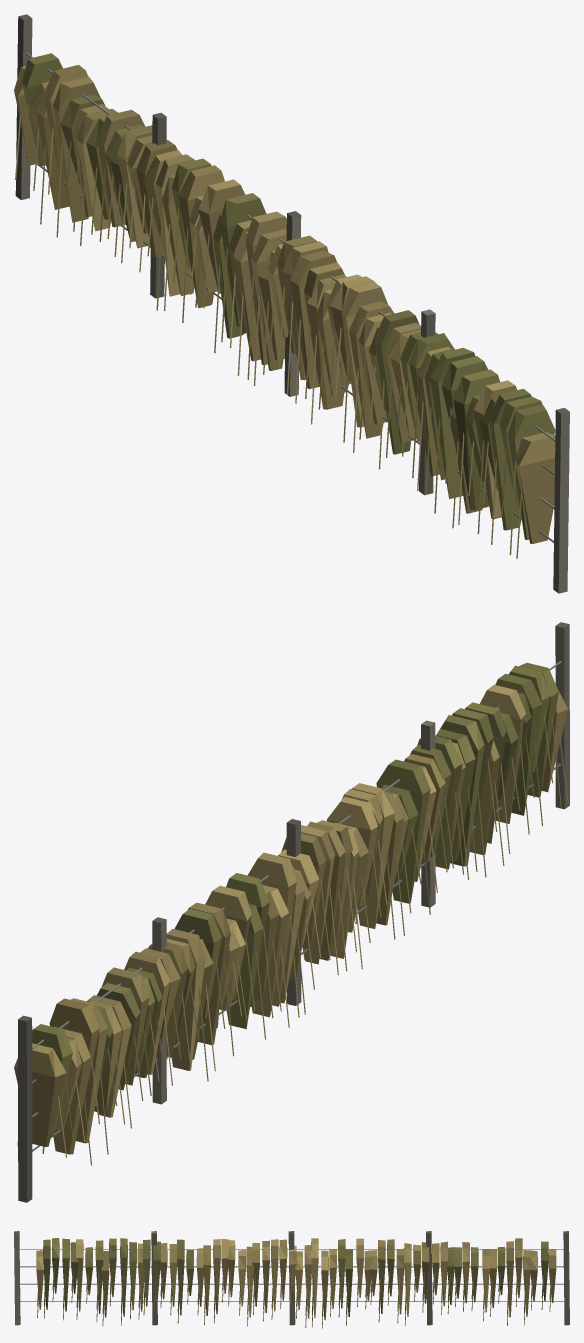
File: hesje.glb
3 renders of one model, top to bottom at view 1: azimuth 30°, elevation 25°; view 2: azimuth 150°, elevation 25°; view 3: azimuth 270°, elevation 25°, orthographic. The views are drawn at different scales.
Parts seen in each view (by area): view 1: hesje; view 2: hesje; view 3: hesje.
Part boxes in pixels (x1=…): hesje: x1=14, y1=14, x2=569, y2=593; hesje: x1=14, y1=622, x2=569, y2=1202; hesje: x1=14, y1=1231, x2=569, y2=1328.
Size of the model in its own units: 0.5337 by 1.85 by 10.12.
